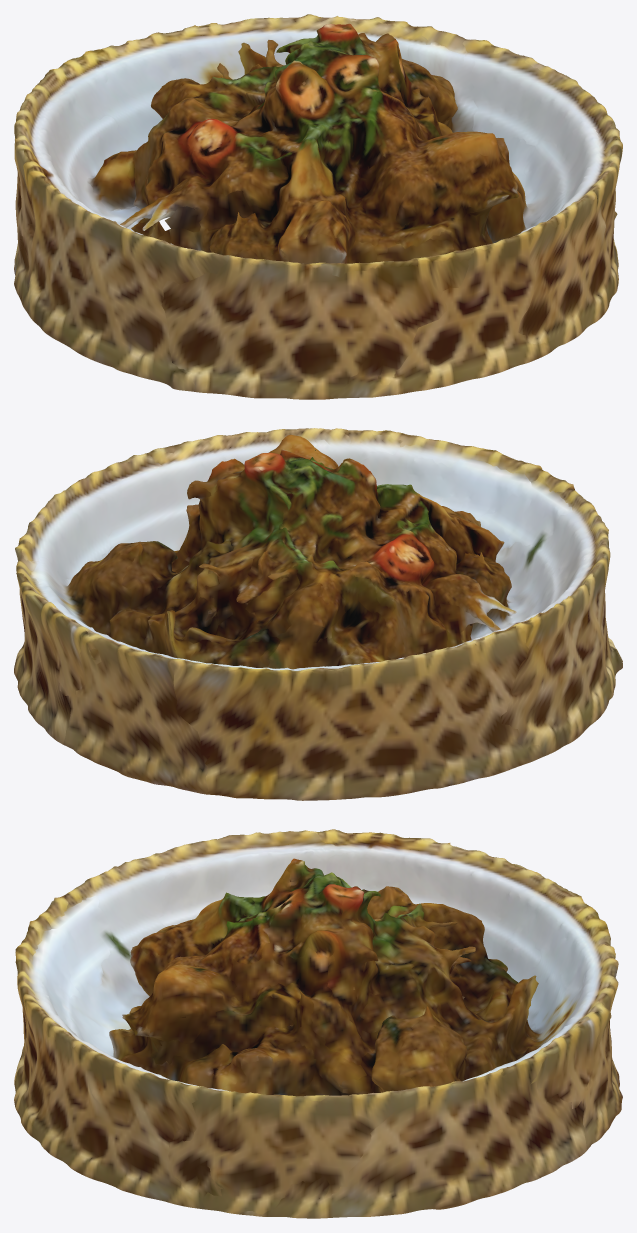
Rendered from sumatra_rendang.glb.
3 renders of one model, top to bottom at view 1: azimuth 30°, elevation 25°; view 2: azimuth 150°, elevation 25°; view 3: azimuth 270°, elevation 25°, orthographic. The views are drawn at different scales.
Visible parts, largest first — view 1: mesh_main_0 (×2); view 2: mesh_main_0 (×2); view 3: mesh_main_0 (×2).
Part boxes in pixels (x1,y1,x2,y2): mesh_main_0 (×2): [14, 14, 622, 399]; mesh_main_0 (×2): [14, 428, 622, 800]; mesh_main_0 (×2): [14, 829, 622, 1218].
Size of the model in its own units: 0.2019 by 0.0811 by 0.2021.
Materials: 1 (1 with a texture image).
